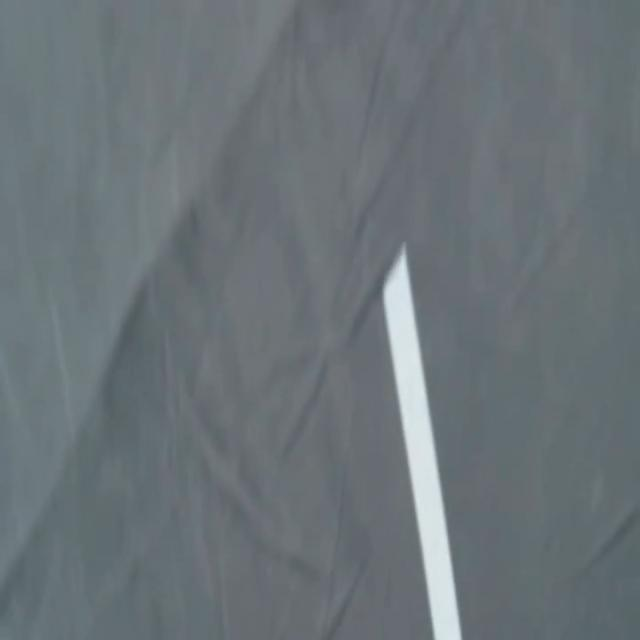center: (384, 244, 461, 639)
